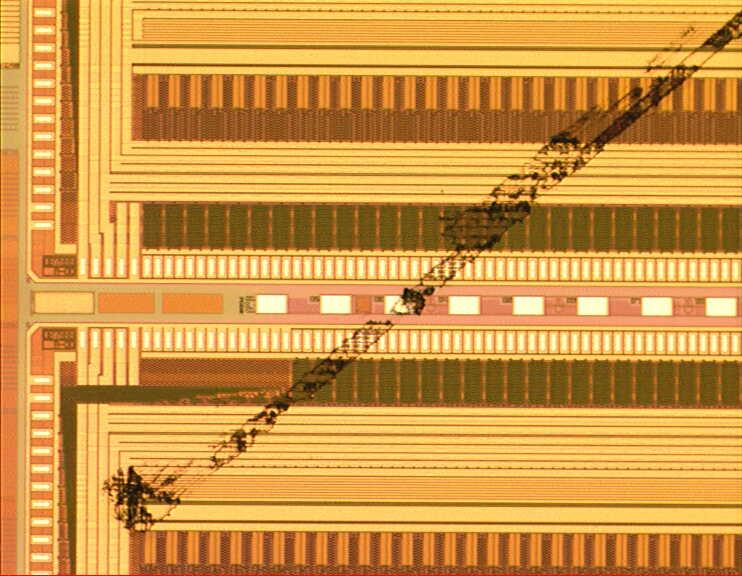SCRATCH: (95, 7, 742, 540)
